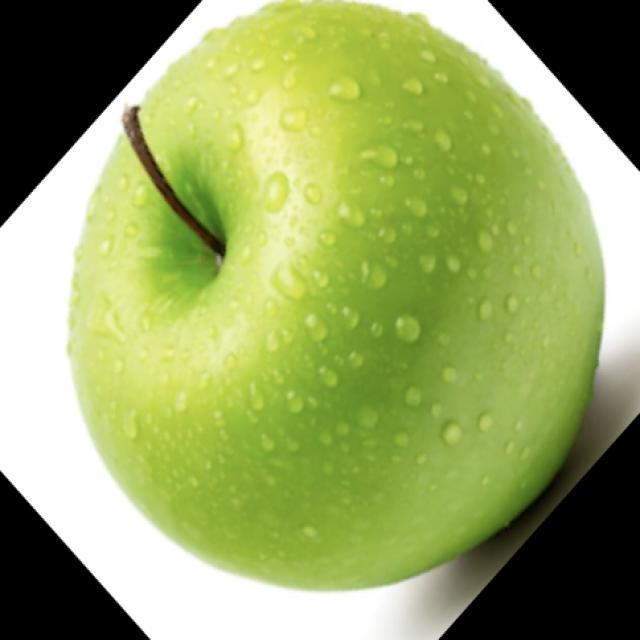Fresh Apple: (85, 4, 615, 584)
